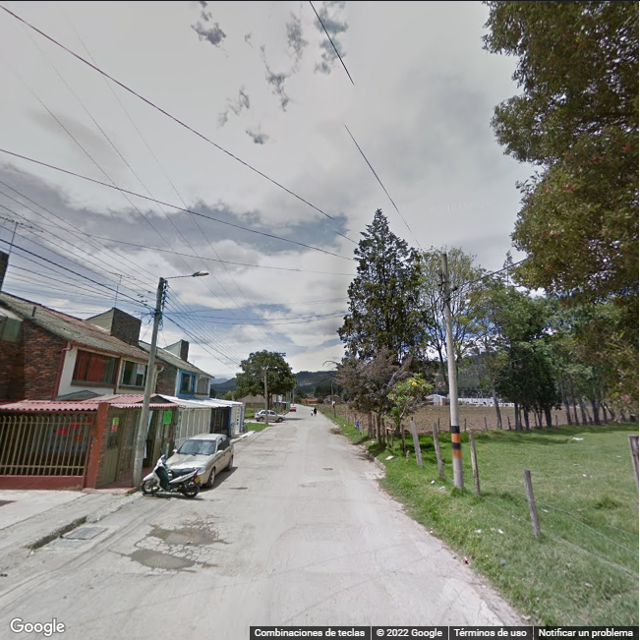D00: (371, 545, 387, 574)
D20: (147, 538, 192, 558)
D40: (139, 549, 188, 577), (163, 528, 191, 544)
